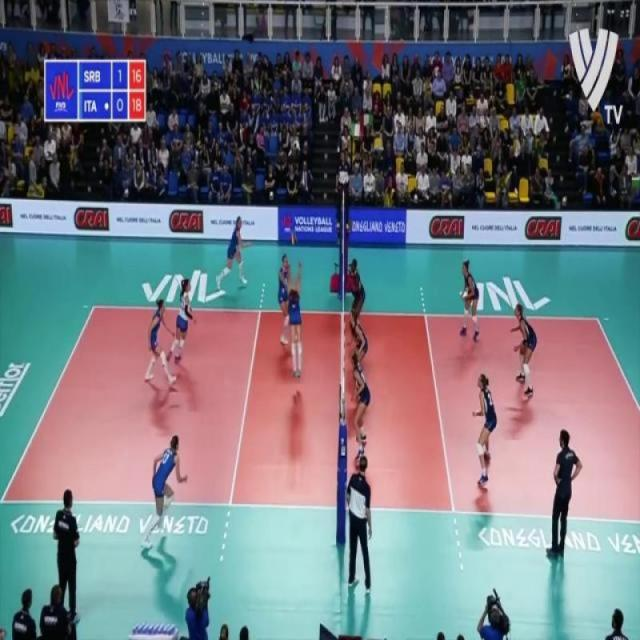volleyball: (290, 233, 298, 245)
